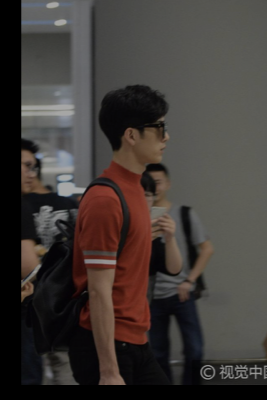without_mask: (133, 118, 171, 166), (145, 177, 169, 202), (22, 158, 38, 195)
